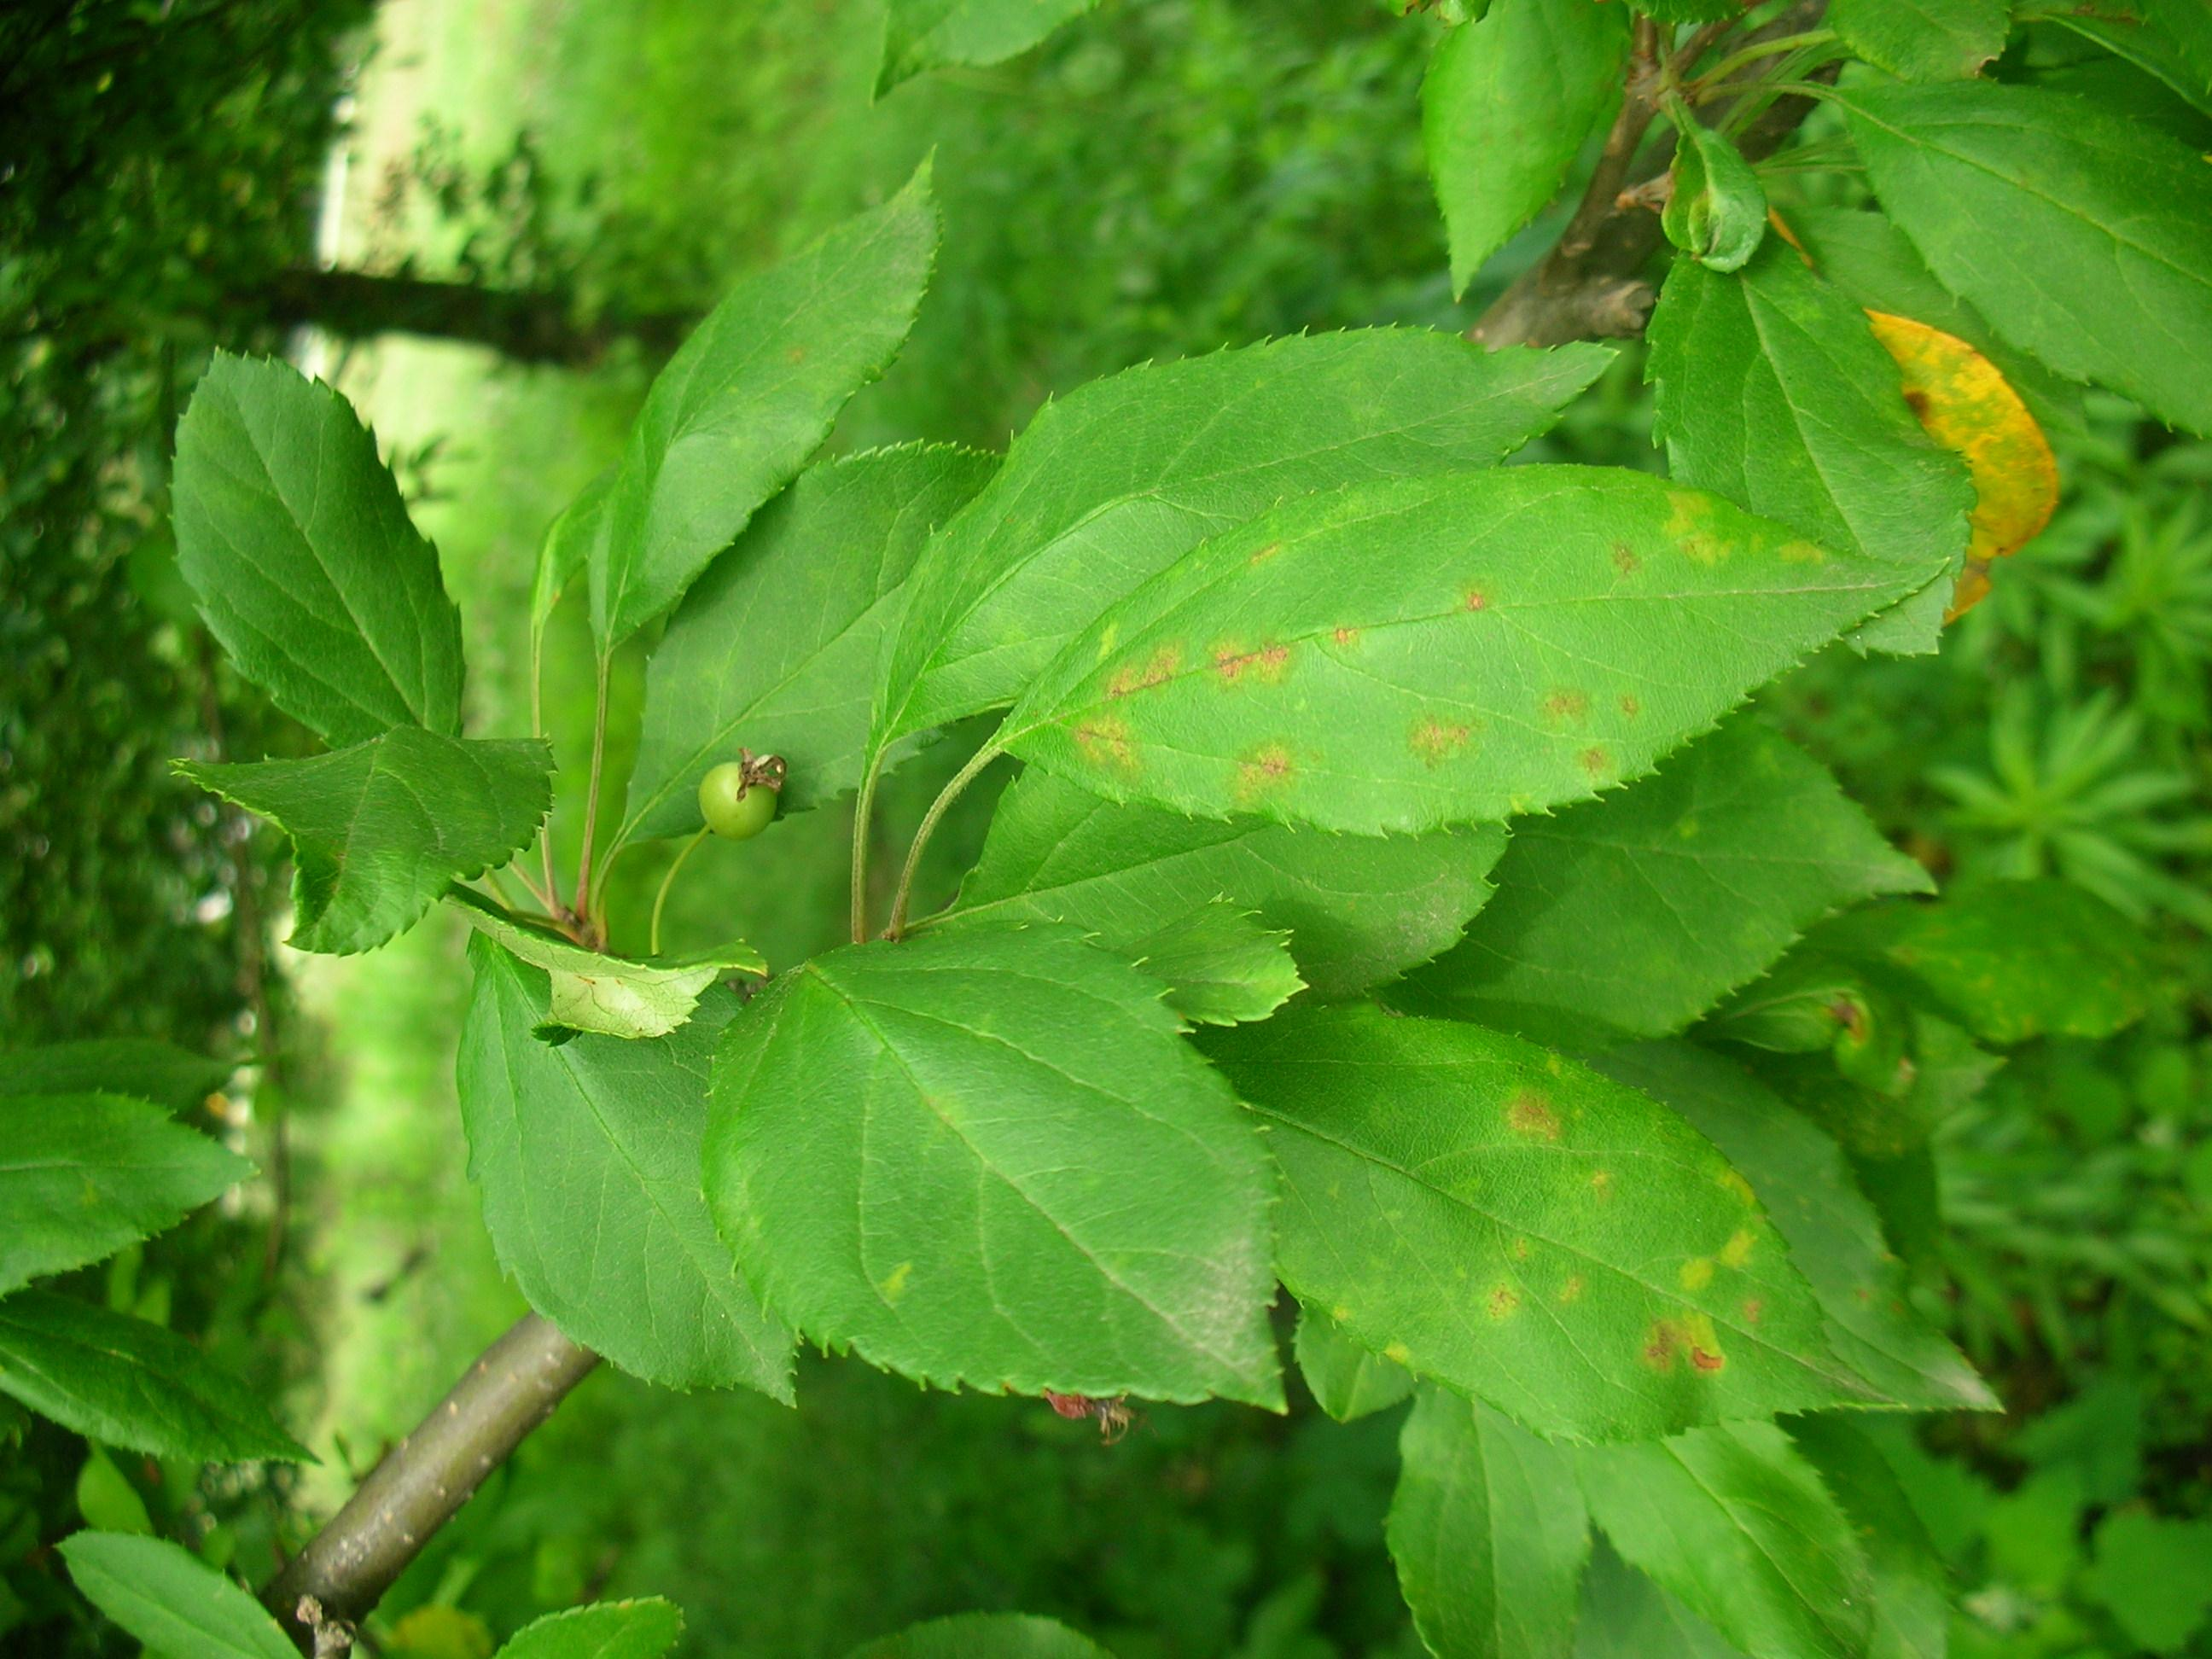Apple Scab Leaf: (1007, 457, 1932, 847), (1209, 988, 1912, 1474), (718, 929, 1322, 1429)
